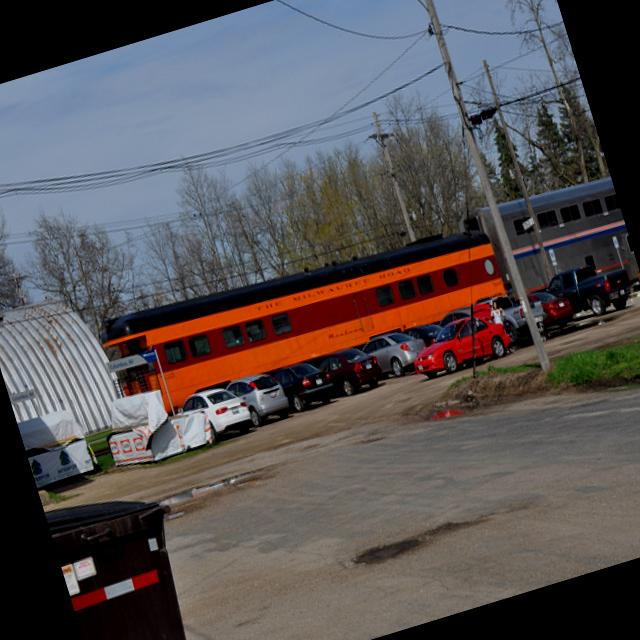Vehicle: (466, 167, 640, 319), (404, 304, 516, 383), (540, 253, 639, 330), (172, 378, 256, 452), (477, 284, 552, 352), (358, 322, 434, 385), (223, 366, 293, 432), (315, 338, 387, 402), (270, 354, 339, 418), (527, 282, 576, 333), (402, 318, 447, 351), (466, 295, 497, 328), (436, 304, 474, 328), (631, 266, 640, 294)
